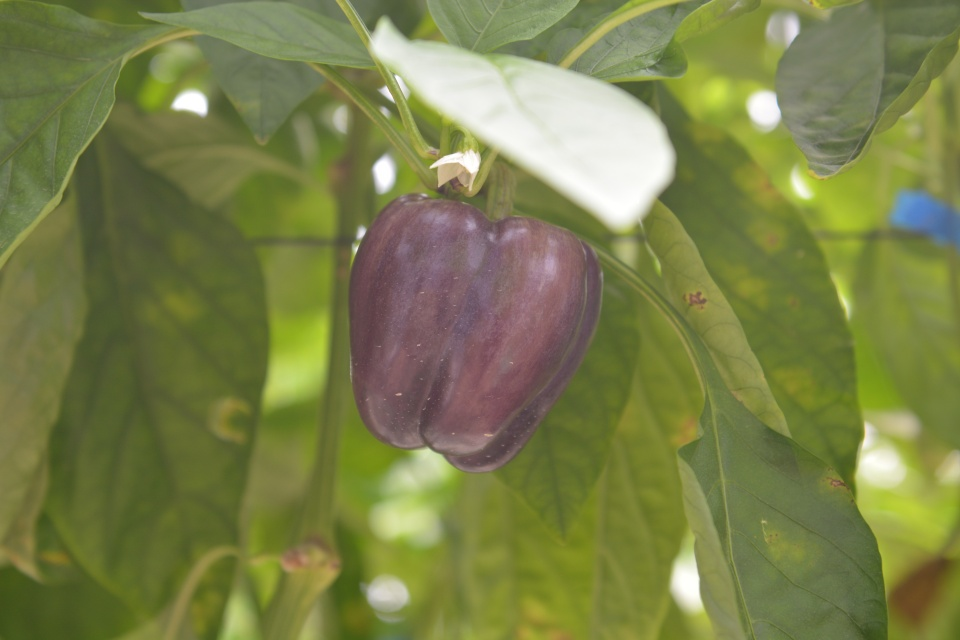flower: (426, 147, 485, 192)
fruit: (345, 192, 607, 476)
